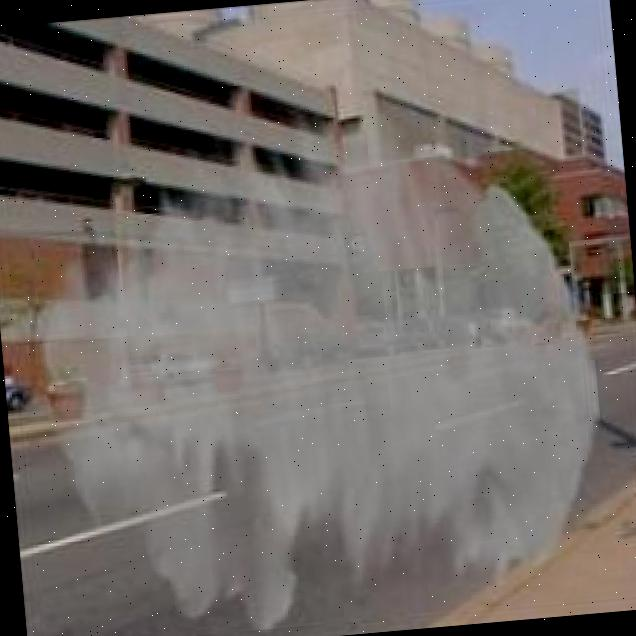smoke: (20, 81, 615, 636)
